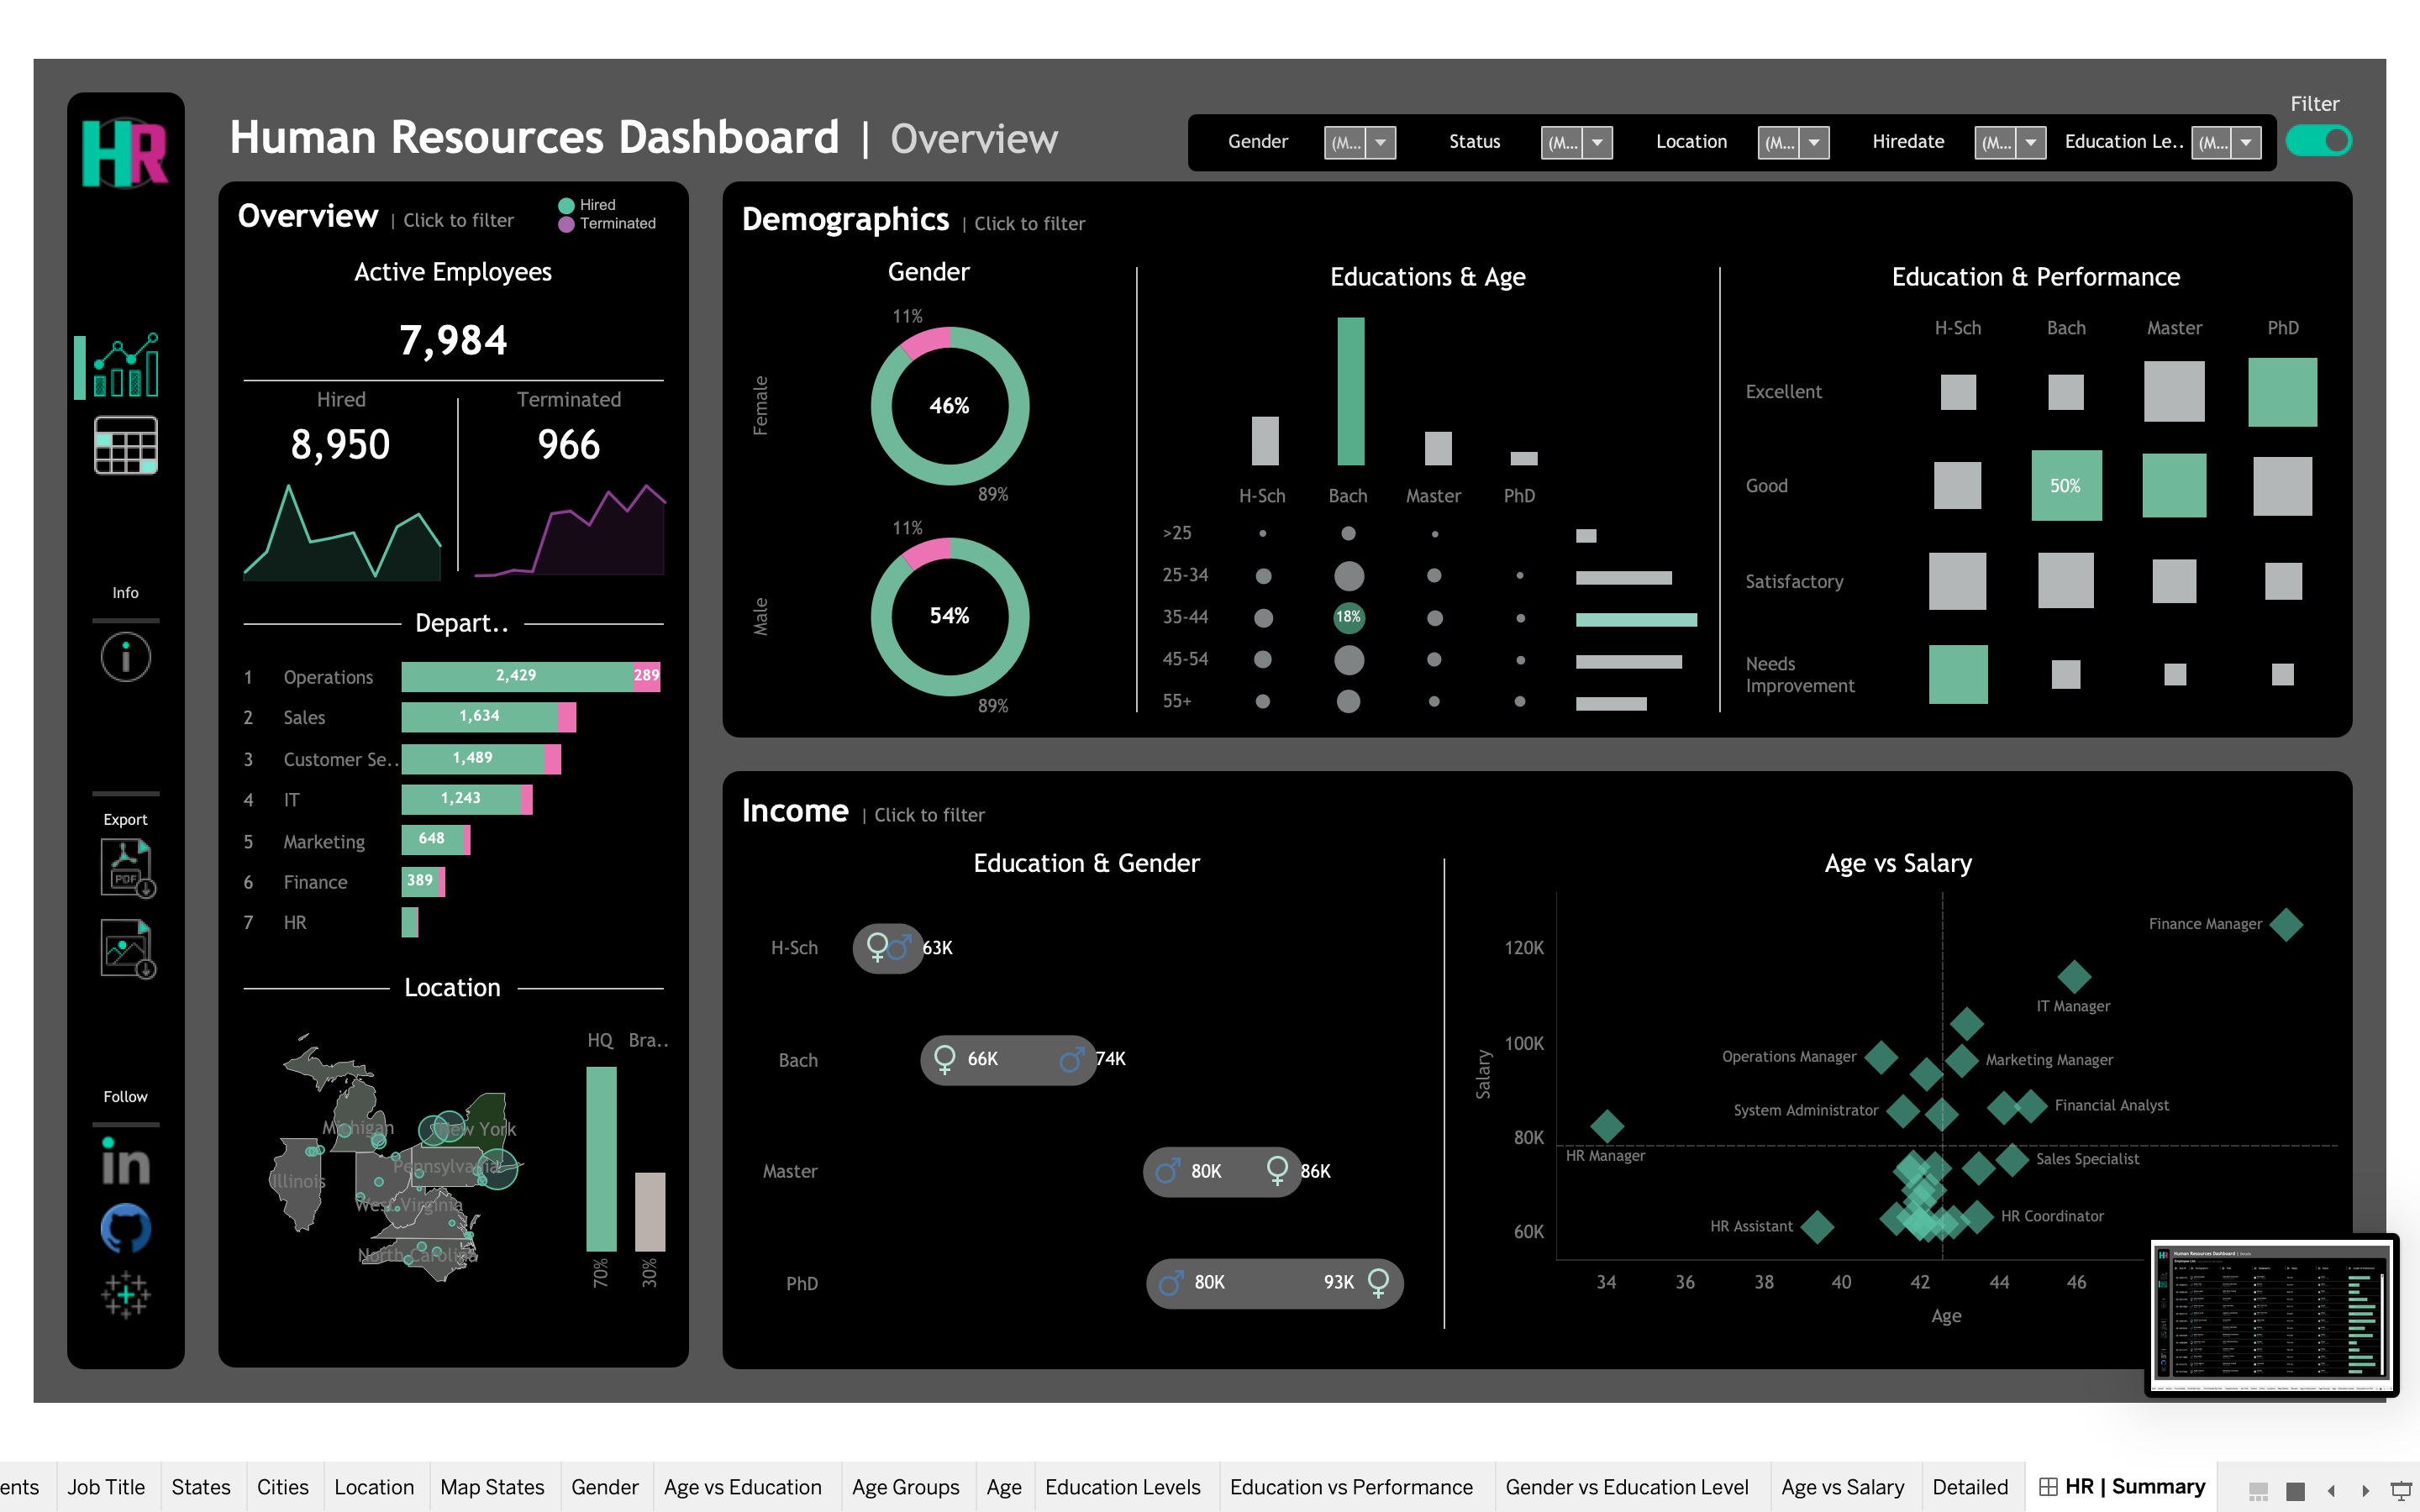

What the dashboard file says about the page in this screenshot:
{"tool":"tableau","page":{"name":"HR | Summary","canvas":[1400,800],"ordinal":1},"visuals":[{"type":"text","box":[1315,12,86,30]},{"type":"image","param":"Image/Logo.png","box":[20,20,70,73]},{"type":"text","box":[110,20,685,53]},{"type":"blank","box":[795,20,605,53]},{"type":"dashboard-object","box":[1340,32,40,33]},{"type":"filter","title":"Gender vs Education Level","param":"[federated.0uamhnl0me0kdh1e9zj320g01psd].[none:Gender:nk]","box":[689,35,129,30]},{"type":"filter","title":"Gender vs Education Level","param":"[federated.0uamhnl0me0kdh1e9zj320g01psd].[none:Calculation_1759417805742095:nk]","box":[818,35,129,30]},{"type":"filter","title":"Gender vs Education Level","param":"[federated.0uamhnl0me0kdh1e9zj320g01psd].[none:Calculation_1759417534775302:nk]","box":[947,35,129,30]},{"type":"filter","title":"Gender vs Education Level","param":"[federated.0uamhnl0me0kdh1e9zj320g01psd].[yr:Hiredate:ok]","box":[1076,35,129,30]},{"type":"filter","title":"Gender vs Education Level","param":"[federated.0uamhnl0me0kdh1e9zj320g01psd].[none:Education Level:nk]","box":[1205,35,128,30]},{"type":"text","box":[115,78,270,31]},{"type":"text","box":[309,78,78,30]},{"type":"text","box":[415,78,960,36]},{"type":"blank","box":[20,93,70,60]},{"type":"text","box":[115,109,270,36]},{"type":"text","box":[415,114,241,26]},{"type":"blank","box":[656,114,1,285]},{"type":"text","box":[662,114,336,32]},{"type":"blank","box":[1003,114,1,285]},{"type":"text","box":[1009,114,366,32]},{"type":"worksheet","title":"Gender","mark":"Pie","rows":["Gender"],"cols":["Calculation_1759417543880712","Calculation_1759417543901194"],"box":[415,140,241,259]},{"type":"worksheet","title":" Active","mark":"Automatic","box":[115,145,270,46]},{"type":"worksheet","title":"Education Levels","mark":"Automatic","rows":["Calculation_1759417523716096"],"cols":["Education Level"],"box":[662,146,336,100]},{"type":"worksheet","title":"Education vs Performance","mark":"Automatic","rows":["Performance Rating"],"cols":["Education Level"],"box":[1009,146,366,253]},{"type":"dashboard-object","box":[30,163,50,38]},{"type":"blank","box":[24,165,7,38]},{"type":"blank","box":[115,191,270,1]},{"type":"text","box":[115,192,137,22]},{"type":"blank","box":[252,192,1,123]},{"type":"text","box":[253,192,132,22]},{"type":"blank","box":[30,201,50,10]},{"type":"dashboard-object","box":[30,211,50,38]},{"type":"worksheet","title":"Hired","mark":"Automatic","box":[115,214,137,32]},{"type":"worksheet","title":"Terminated","mark":"Automatic","box":[253,214,132,32]},{"type":"worksheet","title":"Hired By Year ","mark":"Automatic","rows":["Calculation_1759417523716096","Calculation_1759417523716096"],"cols":["Hiredate"],"box":[115,246,137,69]},{"type":"worksheet","title":"Terminated By Year ","mark":"Automatic","rows":["Calculation_1759417524375554","Calculation_1759417524375554"],"cols":["Termdate"],"box":[253,246,132,69]},{"type":"worksheet","title":"Age vs Education","mark":"Circle","rows":["Calculation_1759417709678606"],"cols":["Education Level"],"box":[662,246,252,153]},{"type":"worksheet","title":"Age Groups","mark":"Automatic","rows":["Calculation_1759417709678606"],"cols":["Calculation_1759417523716096"],"box":[914,246,84,153]},{"type":"blank","box":[30,249,50,60]},{"type":"text","box":[30,309,50,19]},{"type":"blank","box":[125,320,94,32]},{"type":"text","box":[219,320,73,32]},{"type":"blank","box":[292,320,83,32]},{"type":"blank","box":[30,328,50,13]},{"type":"dashboard-object","box":[30,341,50,30]},{"type":"worksheet","title":"Departments","mark":"Bar","rows":["Calculation_1759417533603845","Department"],"cols":["Calculation_1759417523716096"],"box":[115,352,270,179]},{"type":"blank","box":[30,371,50,60]},{"type":"text","box":[415,429,960,37]},{"type":"blank","box":[30,431,50,13]},{"type":"text","box":[30,444,50,19]},{"type":"dashboard-object","box":[30,463,50,38]},{"type":"text","box":[420,466,414,26]},{"type":"blank","box":[839,466,1,300]},{"type":"text","box":[845,466,530,26]},{"type":"worksheet","title":"Gender vs Education Level","mark":"Square","rows":["Education Level"],"cols":["Salary","Salary"],"box":[420,492,414,274]},{"type":"worksheet","title":"Age vs Salary","mark":"Automatic","rows":["Salary"],"cols":["Calculation_1759417708060685"],"box":[845,492,530,274]},{"type":"blank","box":[30,501,50,10]},{"type":"dashboard-object","box":[30,511,50,38]},{"type":"blank","box":[125,536,87.3,34]},{"type":"text","box":[212.3,536,75.3,34]},{"type":"blank","box":[287.7,536,87.3,34]},{"type":"blank","box":[30,549,50,60]},{"type":"worksheet","title":"Map States","mark":"Automatic","box":[115,570,204,167]},{"type":"worksheet","title":"Location","mark":"Bar","rows":["Calculation_1759417523716096"],"cols":["Calculation_1759417534775302","Calculation1"],"box":[319,570,66,167]},{"type":"text","box":[30,609,50,19]},{"type":"blank","box":[30,628,50,13]},{"type":"image","param":"Image/contact-linkedin.png","box":[30,641,50,30]},{"type":"blank","box":[30,671,50,10]},{"type":"image","param":"Image/270798.png","box":[30,681,50,30]},{"type":"blank","box":[30,711,50,10]},{"type":"image","param":"Image/contact-public.png","box":[30,721,50,30]}]}

Visuals, with their boxes on the page's 1400x800 design canvas (x1, y1, x2, y2). These are canvas units, not pixel positions in the 2420x1512 screenshot, which may show the page scaled, cropped or inside an application window:
text: BBox(1315, 12, 1401, 42)
image: BBox(20, 20, 90, 93)
text: BBox(110, 20, 795, 73)
blank: BBox(795, 20, 1400, 73)
dashboard-object: BBox(1340, 32, 1380, 65)
"Gender vs Education Level" filter: BBox(689, 35, 818, 65)
"Gender vs Education Level" filter: BBox(818, 35, 947, 65)
"Gender vs Education Level" filter: BBox(947, 35, 1076, 65)
"Gender vs Education Level" filter: BBox(1076, 35, 1205, 65)
"Gender vs Education Level" filter: BBox(1205, 35, 1333, 65)
text: BBox(115, 78, 385, 109)
text: BBox(309, 78, 387, 108)
text: BBox(415, 78, 1375, 114)
blank: BBox(20, 93, 90, 153)
text: BBox(115, 109, 385, 145)
text: BBox(415, 114, 656, 140)
blank: BBox(656, 114, 657, 399)
text: BBox(662, 114, 998, 146)
blank: BBox(1003, 114, 1004, 399)
text: BBox(1009, 114, 1375, 146)
"Gender" worksheet (Pie marks): BBox(415, 140, 656, 399)
" Active" worksheet: BBox(115, 145, 385, 191)
"Education Levels" worksheet: BBox(662, 146, 998, 246)
"Education vs Performance" worksheet: BBox(1009, 146, 1375, 399)
dashboard-object: BBox(30, 163, 80, 201)
blank: BBox(24, 165, 31, 203)
blank: BBox(115, 191, 385, 192)
text: BBox(115, 192, 252, 214)
blank: BBox(252, 192, 253, 315)
text: BBox(253, 192, 385, 214)
blank: BBox(30, 201, 80, 211)
dashboard-object: BBox(30, 211, 80, 249)
"Hired" worksheet: BBox(115, 214, 252, 246)
"Terminated" worksheet: BBox(253, 214, 385, 246)
"Hired By Year " worksheet: BBox(115, 246, 252, 315)
"Terminated By Year " worksheet: BBox(253, 246, 385, 315)
"Age vs Education" worksheet (Circle marks): BBox(662, 246, 914, 399)
"Age Groups" worksheet: BBox(914, 246, 998, 399)
blank: BBox(30, 249, 80, 309)
text: BBox(30, 309, 80, 328)
blank: BBox(125, 320, 219, 352)
text: BBox(219, 320, 292, 352)
blank: BBox(292, 320, 375, 352)
blank: BBox(30, 328, 80, 341)
dashboard-object: BBox(30, 341, 80, 371)
"Departments" worksheet (Bar marks): BBox(115, 352, 385, 531)
blank: BBox(30, 371, 80, 431)
text: BBox(415, 429, 1375, 466)
blank: BBox(30, 431, 80, 444)
text: BBox(30, 444, 80, 463)
dashboard-object: BBox(30, 463, 80, 501)
text: BBox(420, 466, 834, 492)
blank: BBox(839, 466, 840, 766)
text: BBox(845, 466, 1375, 492)
"Gender vs Education Level" worksheet (Square marks): BBox(420, 492, 834, 766)
"Age vs Salary" worksheet: BBox(845, 492, 1375, 766)
blank: BBox(30, 501, 80, 511)
dashboard-object: BBox(30, 511, 80, 549)
blank: BBox(125, 536, 212, 570)
text: BBox(212, 536, 288, 570)
blank: BBox(288, 536, 375, 570)
blank: BBox(30, 549, 80, 609)
"Map States" worksheet: BBox(115, 570, 319, 737)
"Location" worksheet (Bar marks): BBox(319, 570, 385, 737)
text: BBox(30, 609, 80, 628)
blank: BBox(30, 628, 80, 641)
image: BBox(30, 641, 80, 671)
blank: BBox(30, 671, 80, 681)
image: BBox(30, 681, 80, 711)
blank: BBox(30, 711, 80, 721)
image: BBox(30, 721, 80, 751)
